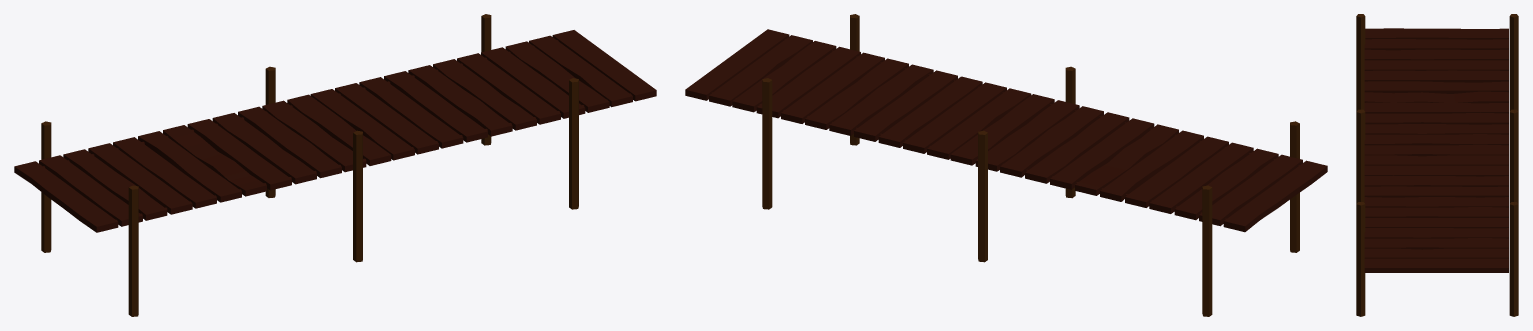
Rendered from Bridge 3.FBX.
The picture shows the model from 3 angles, left to right: view 1: azimuth 30°, elevation 25°; view 2: azimuth 150°, elevation 25°; view 3: azimuth 270°, elevation 25°; orthographic projection. The views are drawn at different scales.
Parts seen in each view (by area): view 1: Box001, Cylinder004; view 2: Box001, Cylinder004; view 3: Box001, Cylinder004.
Part boxes in pixels (x1,y1,x2,y2): Box001: (14,30,656,232); Cylinder004: (41,14,578,316); Box001: (685,29,1327,232); Cylinder004: (762,14,1299,316); Box001: (1364,28,1508,272); Cylinder004: (1356,14,1518,316).
Size of the model in its own units: 2.18 by 0.4722 by 0.6227.
